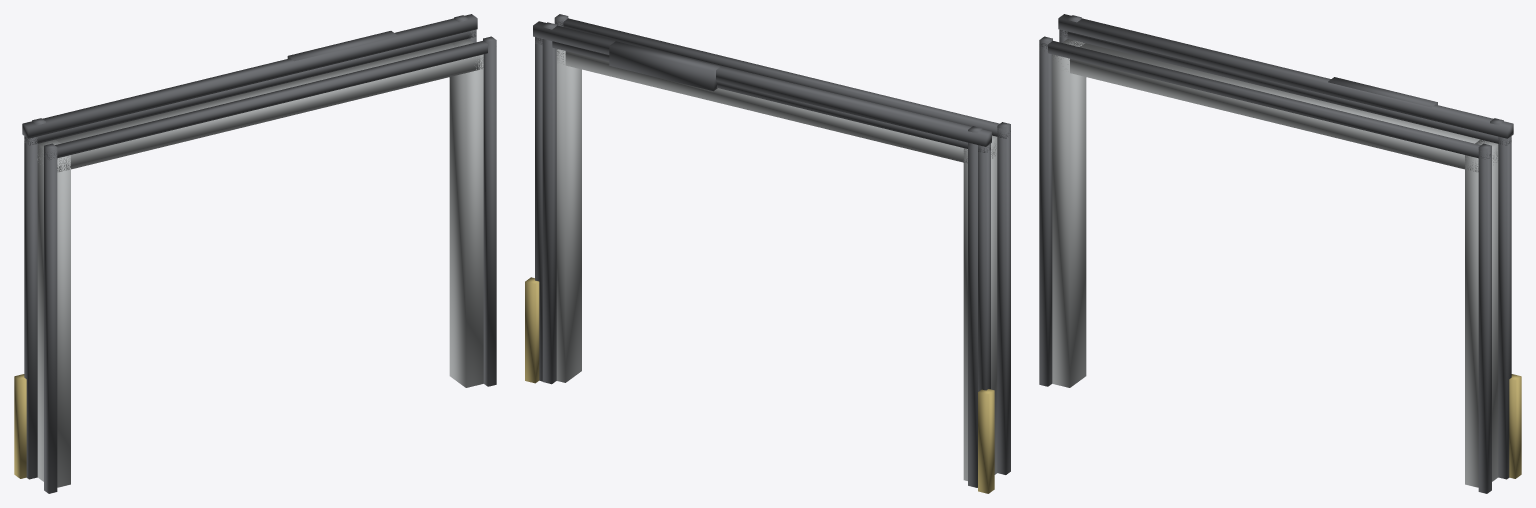
Rendered from bay_opening_loading_bay_w420_h320_d30.glb.
3 views of the same model, side by side, from view 1: azimuth 30°, elevation 25°; view 2: azimuth 150°, elevation 25°; view 3: azimuth 330°, elevation 25° (orthographic).
Visible parts, largest first — view 1: world; view 2: world; view 3: world.
Boxes of the visible parts, box(x1,y1,x2,y2) form: world: box(14, 14, 496, 493); world: box(525, 14, 1010, 493); world: box(1039, 14, 1521, 493).
Bounding box in the file's own units: 4.89 × 3.59 × 0.522.
